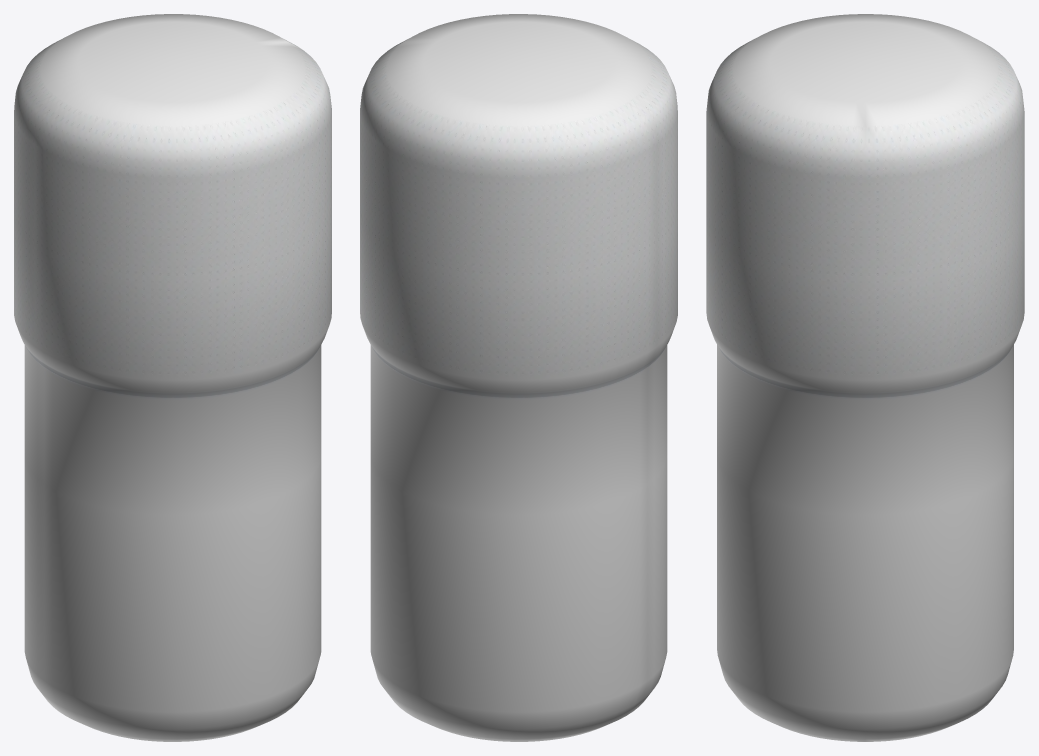
Rendered from neumann-tlm-103.glb.
3 views of the same model, side by side, from view 1: azimuth 30°, elevation 25°; view 2: azimuth 150°, elevation 25°; view 3: azimuth 270°, elevation 25° (orthographic).
Parts seen in each view (by area): view 1: neumann-tlm-103-body; view 2: neumann-tlm-103-body; view 3: neumann-tlm-103-body.
Part boxes in pixels (x1,y1,x2,y2): neumann-tlm-103-body: (14,14,331,741); neumann-tlm-103-body: (360,14,677,741); neumann-tlm-103-body: (706,14,1024,741).
Size of the model in its own units: 0.06 by 0.132 by 0.06.
Materials: 1 (1 with a texture image).
